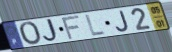2: (131, 7, 154, 32)
F: (61, 14, 82, 42)
J: (42, 18, 62, 44), (115, 9, 131, 33)
L: (84, 13, 107, 37)
O: (18, 21, 43, 46)
